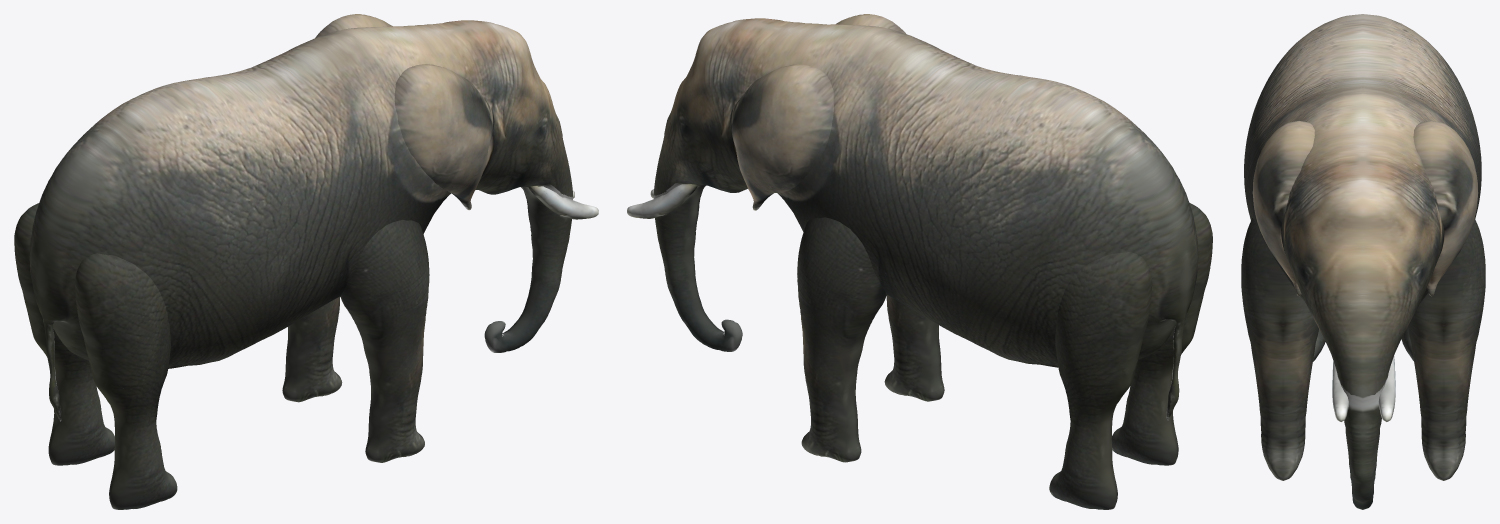
The model's file is indian-elephant.glb.
3 views of the same model, side by side, from view 1: azimuth 30°, elevation 25°; view 2: azimuth 150°, elevation 25°; view 3: azimuth 270°, elevation 25° (orthographic). The views are drawn at different scales.
Parts seen in each view (by area): view 1: mm_frame (26); view 2: mm_frame (26); view 3: mm_frame (26).
Boxes of the visible parts, x1=… form: mm_frame (26): x1=14, y1=14, x2=598, y2=509; mm_frame (26): x1=627, y1=14, x2=1212, y2=509; mm_frame (26): x1=1241, y1=14, x2=1485, y2=509.
Size of the model in its own units: 7.81 by 5.35 by 3.13.
Materials: 1 (1 with a texture image).
